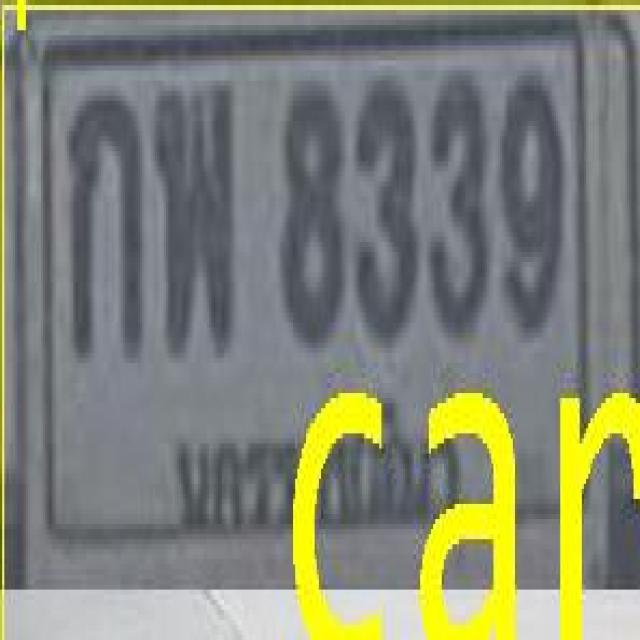license_plate: (16, 19, 611, 588)
